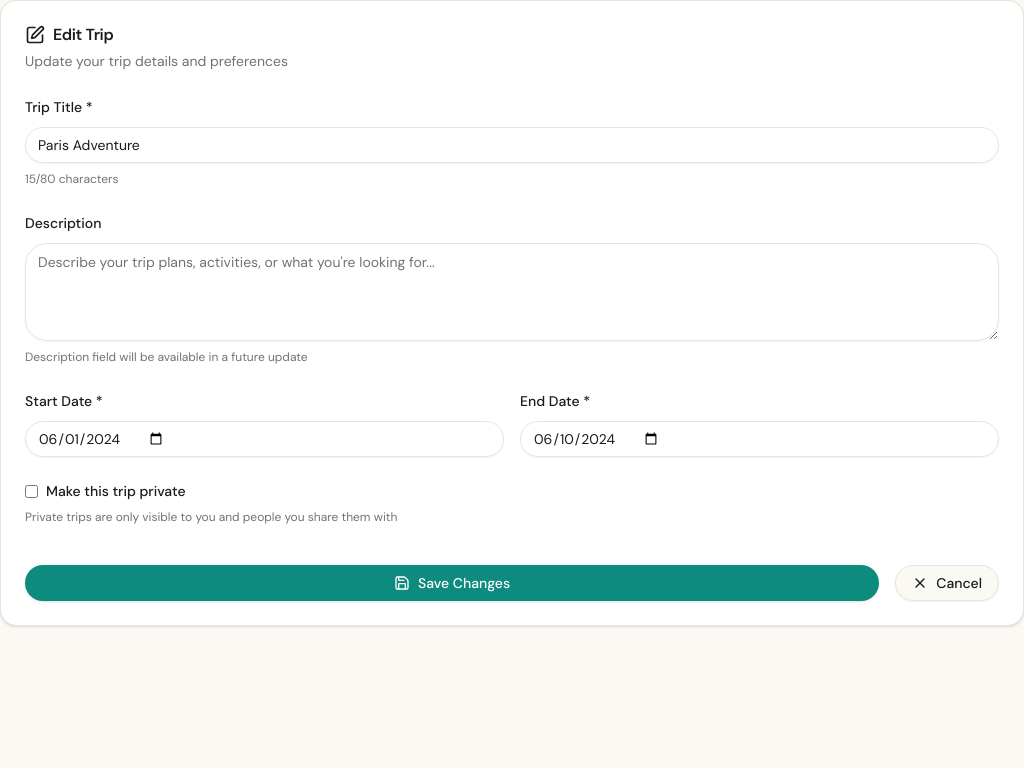
TripEditForm › should show API error when update fails
The width and height of the screenshot is (1024, 768).
Click the button "Save Changes" at (452, 583), box [25,565,879,601]
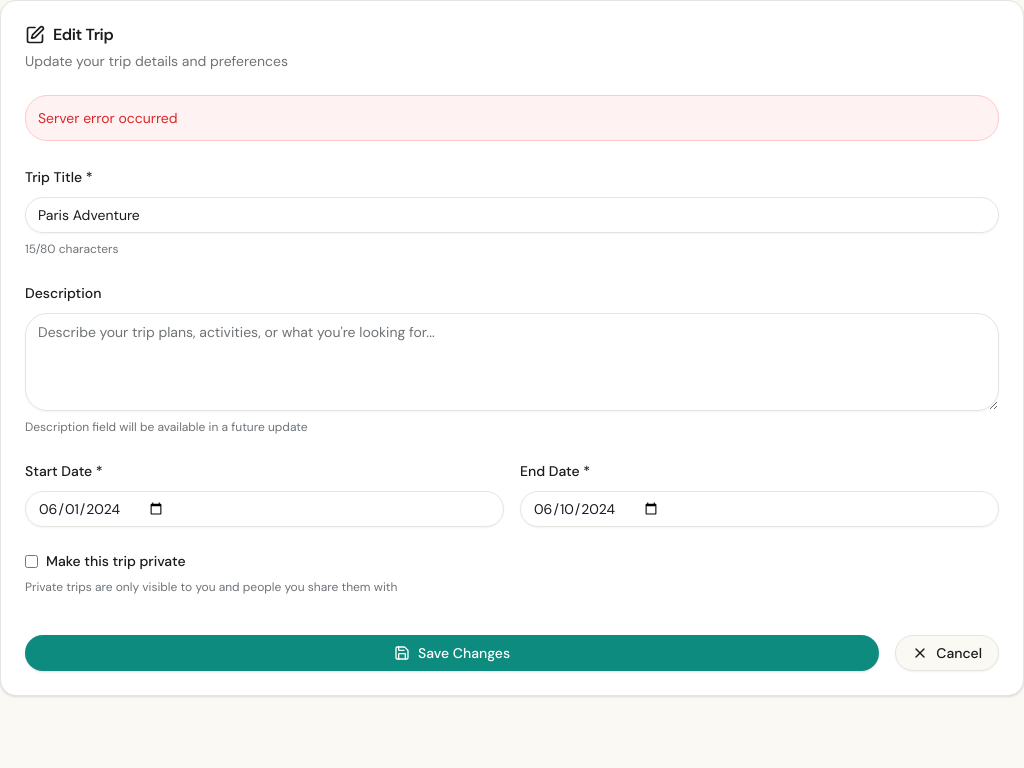
Result: the text "Server error occurred" is shown at [25,95,999,141]
